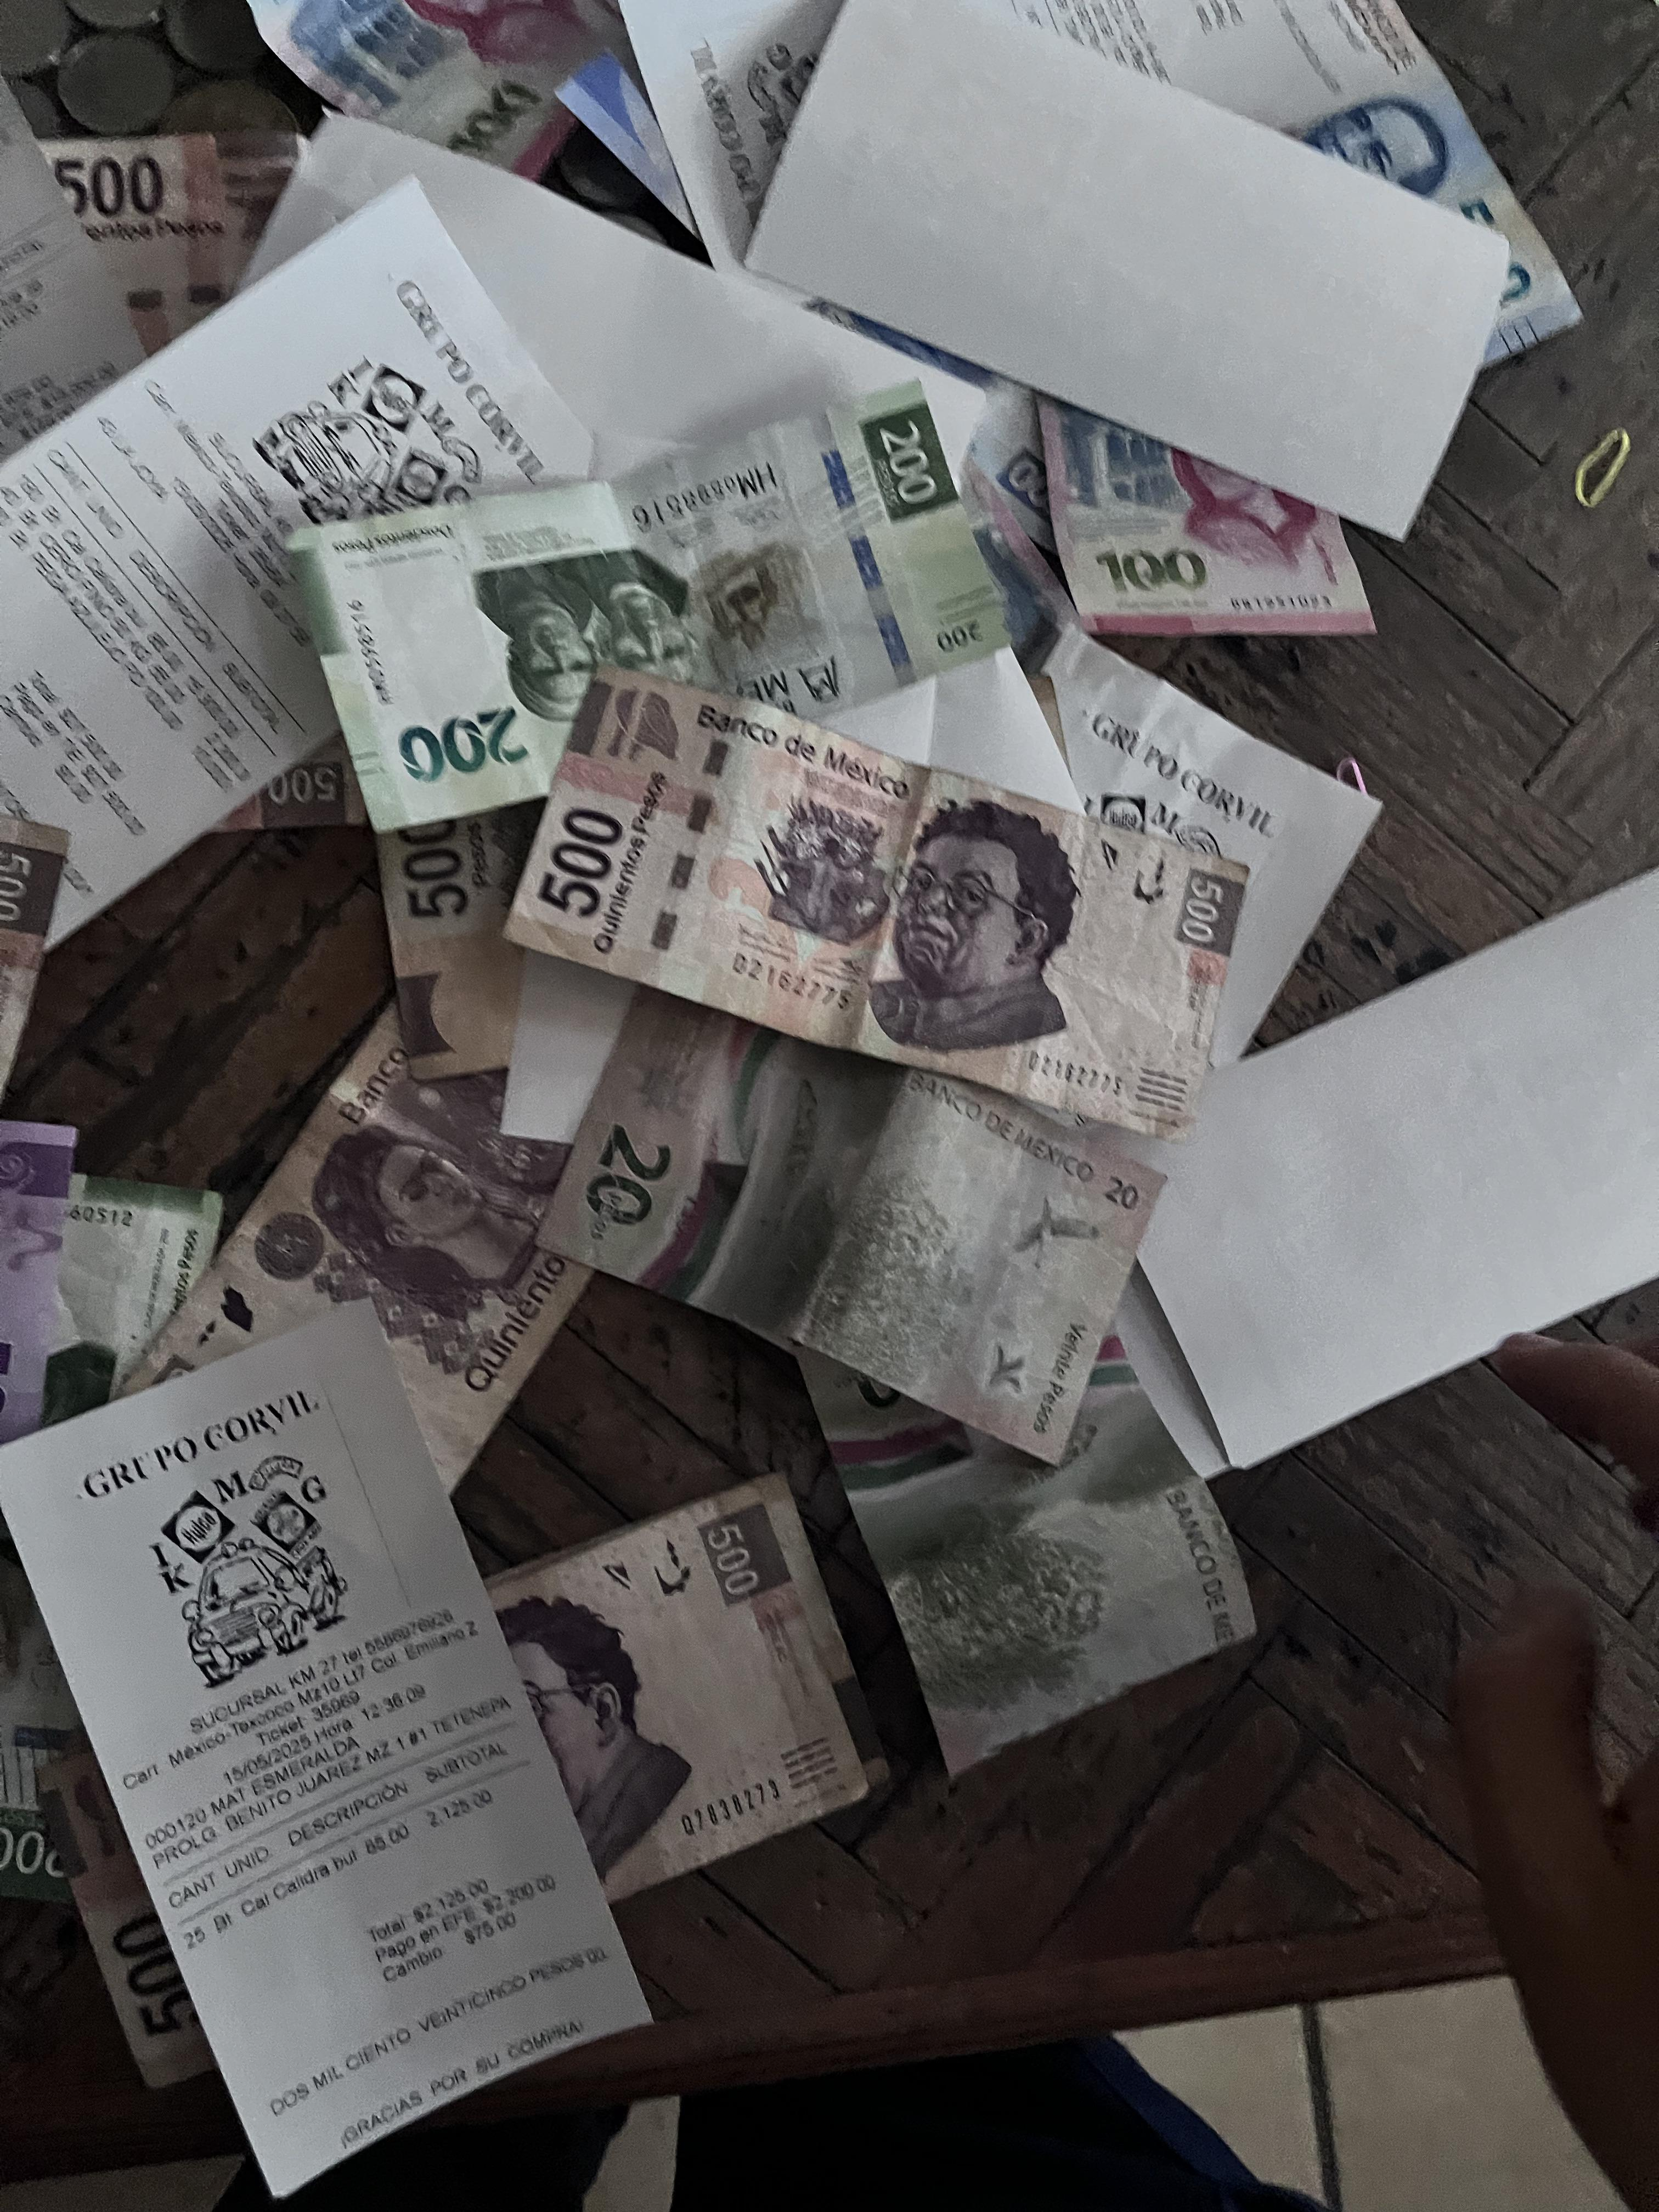100: (1009, 280, 1443, 658), (200, 0, 678, 230)
20: (483, 925, 1246, 1467), (760, 1214, 1291, 1843)
50: (0, 1078, 94, 1498)
500: (0, 1505, 951, 2151), (486, 643, 1270, 1153), (101, 954, 648, 1522), (35, 68, 343, 378), (0, 792, 58, 1108)
500 nuevo: (1115, 0, 1586, 387)
